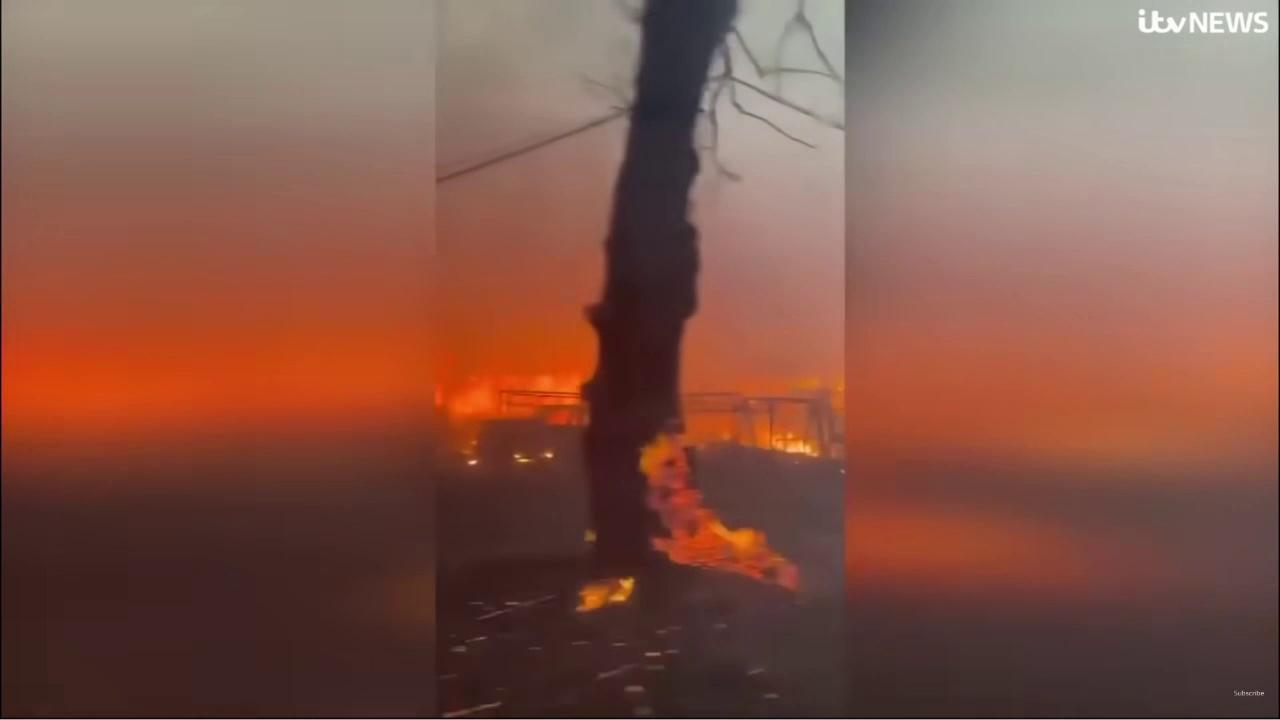fire: (640, 420, 823, 594), (433, 367, 593, 467), (570, 573, 634, 617)
smoke: (432, 0, 844, 720)
